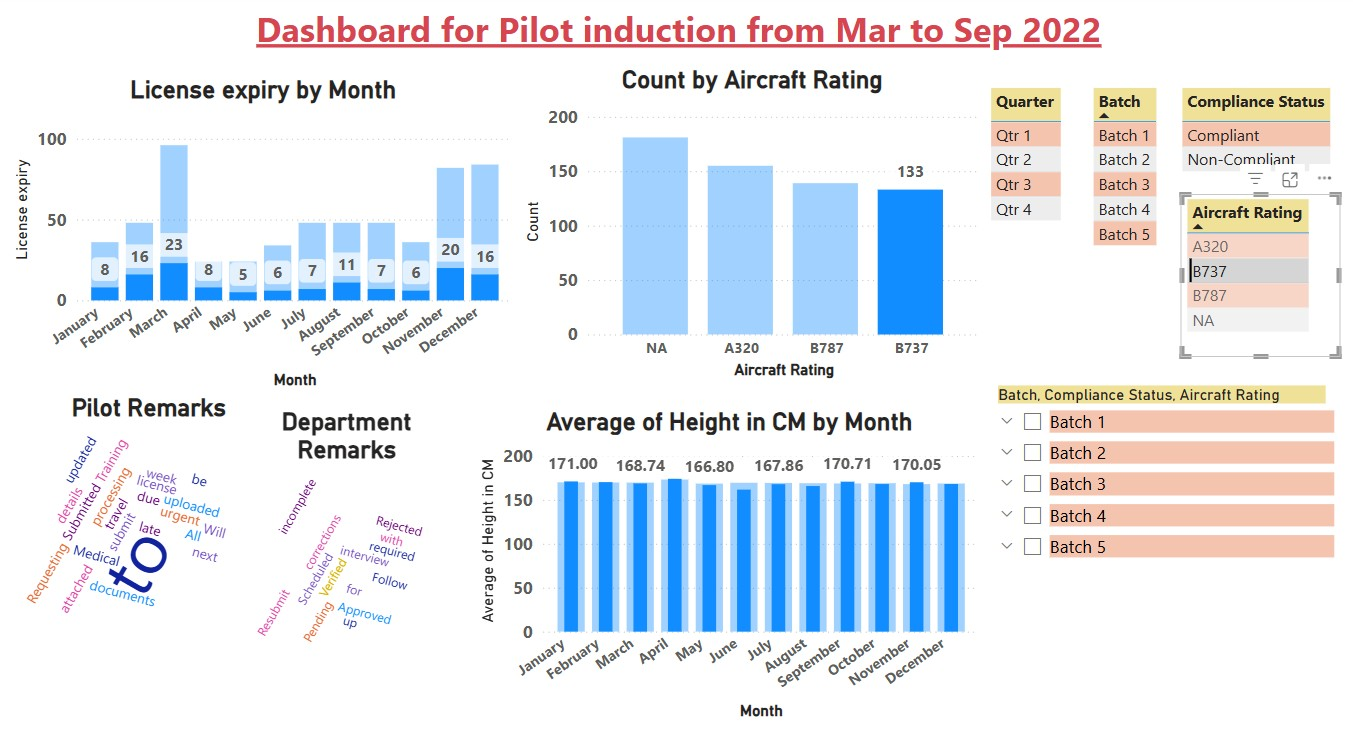

This screenshot's page, from the dashboard's own definition file:
{"tool":"powerbi","page":{"name":"Page 2","canvas":[1280,720],"ordinal":1},"visuals":[{"type":"lineClusteredColumnComboChart","fields":{"Category":["export?format=csv&id=1RSt7JTLuaaMvQIgaXB1fvxA7Anrv1DO8XRaBTItq9nI&gid=177511 (2).License Expiry Date.Variation.Date Hier"],"Y":["CountNonNull(export?format=csv&id=1RSt7JTLuaaMvQIgaXB1fvxA7Anrv1DO8XRaBTItq9nI&gid=177511 (2).License Expiry Date)"]},"box":[9.6,75.5,474.8,296.4],"z":0},{"type":"slicer","fields":{"Values":["export?format=csv&id=1RSt7JTLuaaMvQIgaXB1fvxA7Anrv1DO8XRaBTItq9nI&gid=177511 (2).Batch","export?format=csv&id=1RSt7JTLuaaMvQIgaXB1fvxA7Anrv1DO8XRaBTItq9nI&gid=177511 (2).Compliance Status","export?format=csv&id=1RSt7JTLuaaMvQIgaXB1fvxA7Anrv1DO8XRaBTItq9nI&gid=177511 (2).Aircraft Rating"]},"box":[918,359.5,330.7,226.4],"z":1000},{"type":"textbox","box":[0,5.5,1274.8,60.4],"z":2000},{"type":"tableEx","fields":{"Values":["export?format=csv&id=1RSt7JTLuaaMvQIgaXB1fvxA7Anrv1DO8XRaBTItq9nI&gid=177511 (2).Compliance Status"]},"box":[1095,82.9,174.3,104.3],"z":3000},{"type":"tableEx","fields":{"Values":["export?format=csv&id=1RSt7JTLuaaMvQIgaXB1fvxA7Anrv1DO8XRaBTItq9nI&gid=177511 (2).Batch"]},"box":[1012.7,82.9,87.8,168.8],"z":4000},{"type":"tableEx","fields":{"Values":["export?format=csv&id=1RSt7JTLuaaMvQIgaXB1fvxA7Anrv1DO8XRaBTItq9nI&gid=177511 (2).Submission Date.Variation.Date Hierarch"]},"box":[918,82.9,94.7,152.3],"z":5000},{"type":"WordCloud1447959067750","fields":{"Category":["export?format=csv&id=1RSt7JTLuaaMvQIgaXB1fvxA7Anrv1DO8XRaBTItq9nI&gid=177511 (2).Pilot Remarks"]},"box":[9.6,370.5,262.1,247],"z":6000},{"type":"WordCloud1447959067750","fields":{"Category":["export?format=csv&id=1RSt7JTLuaaMvQIgaXB1fvxA7Anrv1DO8XRaBTItq9nI&gid=177511 (2).Department Remarks"]},"box":[222.1,383.7,204.7,247.7],"z":7000},{"type":"lineClusteredColumnComboChart","fields":{"Category":["export?format=csv&id=1RSt7JTLuaaMvQIgaXB1fvxA7Anrv1DO8XRaBTItq9nI&gid=177511 (2).Aircraft Rating"],"Y":["CountNonNull(export?format=csv&id=1RSt7JTLuaaMvQIgaXB1fvxA7Anrv1DO8XRaBTItq9nI&gid=177511 (2).Aircraft Rating)"]},"box":[484.4,65.9,433.6,296.4],"z":8000},{"type":"lineClusteredColumnComboChart","fields":{"Category":["export?format=csv&id=1RSt7JTLuaaMvQIgaXB1fvxA7Anrv1DO8XRaBTItq9nI&gid=177511 (2).License Expiry Date.Variation.Date Hier"],"Y":["Avg(export?format=csv&id=1RSt7JTLuaaMvQIgaXB1fvxA7Anrv1DO8XRaBTItq9nI&gid=177511 (2).Height in CM)"]},"box":[443.2,384.2,474.8,296.4],"z":8001},{"type":"tableEx","fields":{"Values":["export?format=csv&id=1RSt7JTLuaaMvQIgaXB1fvxA7Anrv1DO8XRaBTItq9nI&gid=177511 (2).Aircraft Rating"]},"box":[1100.5,186.6,148.2,152.3],"z":8002}]}

Visuals, with their boxes on the page's 1280x720 design canvas (x1, y1, x2, y2). These are canvas units, not pixel positions in the 1353x736 screenshot, which may show the page scaled, cropped or inside an application window:
lineClusteredColumnComboChart - export?format=csv&id=1RSt7JTLuaaMvQIgaXB1fvxA7Anrv1DO8XRaBTItq9nI&gid=177511 (2).License Expiry Date.Variation.Date Hier x CountNonNull(export?format=csv&id=1RSt7JTLuaaMvQIgaXB1fvxA7Anrv1DO8XRaBTItq9nI&gid=177511 (2).License Expiry Date): 10, 76, 484, 372
slicer - export?format=csv&id=1RSt7JTLuaaMvQIgaXB1fvxA7Anrv1DO8XRaBTItq9nI&gid=177511 (2).Batch x export?format=csv&id=1RSt7JTLuaaMvQIgaXB1fvxA7Anrv1DO8XRaBTItq9nI&gid=177511 (2).Compliance Status: 918, 360, 1249, 586
textbox: 0, 6, 1275, 66
tableEx - export?format=csv&id=1RSt7JTLuaaMvQIgaXB1fvxA7Anrv1DO8XRaBTItq9nI&gid=177511 (2).Compliance Status: 1095, 83, 1269, 187
tableEx - export?format=csv&id=1RSt7JTLuaaMvQIgaXB1fvxA7Anrv1DO8XRaBTItq9nI&gid=177511 (2).Batch: 1013, 83, 1100, 252
tableEx - export?format=csv&id=1RSt7JTLuaaMvQIgaXB1fvxA7Anrv1DO8XRaBTItq9nI&gid=177511 (2).Submission Date.Variation.Date Hierarch: 918, 83, 1013, 235
WordCloud1447959067750 - export?format=csv&id=1RSt7JTLuaaMvQIgaXB1fvxA7Anrv1DO8XRaBTItq9nI&gid=177511 (2).Pilot Remarks: 10, 370, 272, 618
WordCloud1447959067750 - export?format=csv&id=1RSt7JTLuaaMvQIgaXB1fvxA7Anrv1DO8XRaBTItq9nI&gid=177511 (2).Department Remarks: 222, 384, 427, 631
lineClusteredColumnComboChart - export?format=csv&id=1RSt7JTLuaaMvQIgaXB1fvxA7Anrv1DO8XRaBTItq9nI&gid=177511 (2).Aircraft Rating x CountNonNull(export?format=csv&id=1RSt7JTLuaaMvQIgaXB1fvxA7Anrv1DO8XRaBTItq9nI&gid=177511 (2).Aircraft Rating): 484, 66, 918, 362
lineClusteredColumnComboChart - export?format=csv&id=1RSt7JTLuaaMvQIgaXB1fvxA7Anrv1DO8XRaBTItq9nI&gid=177511 (2).License Expiry Date.Variation.Date Hier x Avg(export?format=csv&id=1RSt7JTLuaaMvQIgaXB1fvxA7Anrv1DO8XRaBTItq9nI&gid=177511 (2).Height in CM): 443, 384, 918, 681
tableEx - export?format=csv&id=1RSt7JTLuaaMvQIgaXB1fvxA7Anrv1DO8XRaBTItq9nI&gid=177511 (2).Aircraft Rating: 1100, 187, 1249, 339
